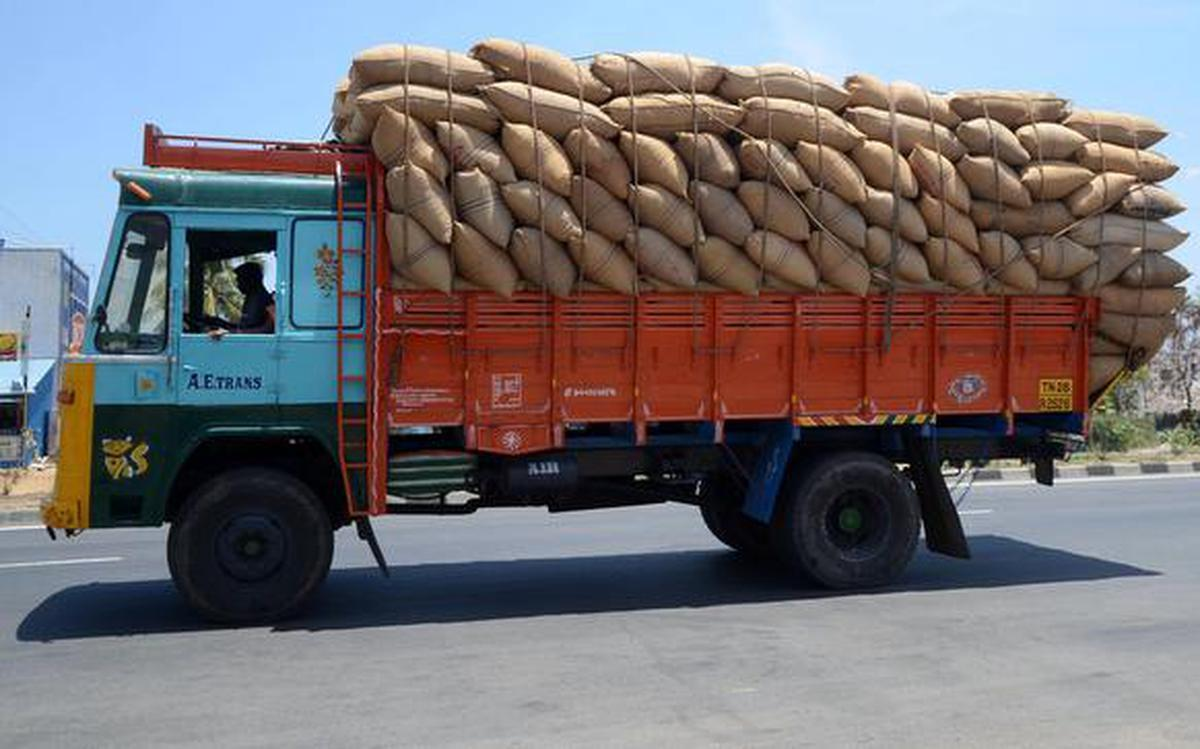truck: (38, 33, 1195, 629)
